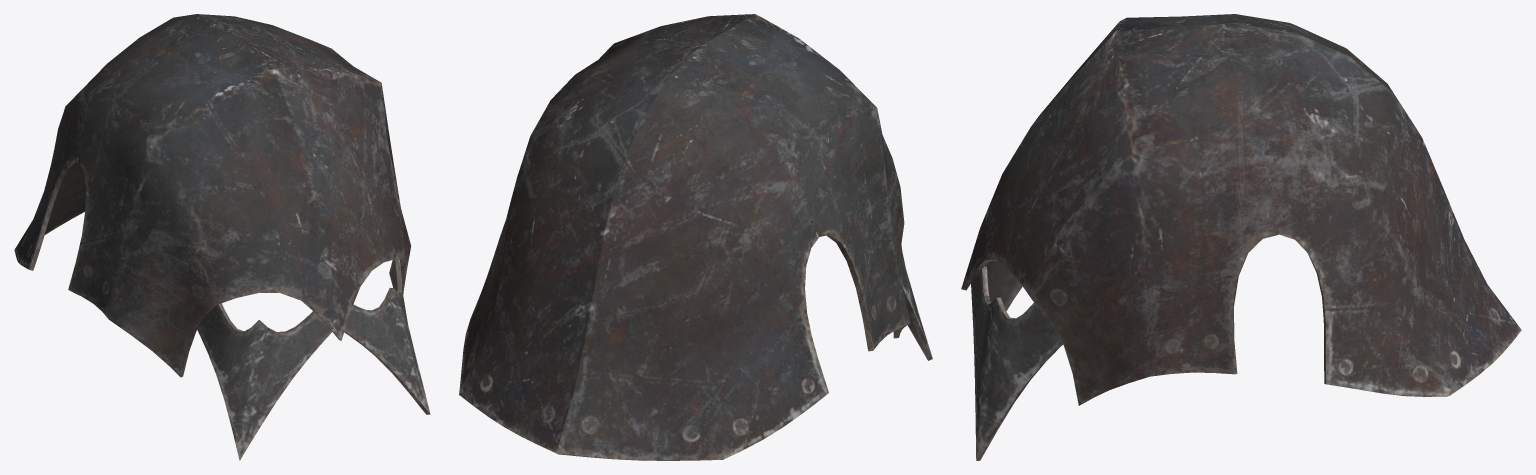
Rendered from sk_dg_uruk_helmet_med_c.fbx.
The picture shows the model from 3 angles, left to right: view 1: azimuth 30°, elevation 25°; view 2: azimuth 150°, elevation 25°; view 3: azimuth 270°, elevation 25°; orthographic projection. The views are drawn at different scales.
Parts seen in each view (by area): view 1: sk_dg_uruk_helmet_med_c; view 2: sk_dg_uruk_helmet_med_c; view 3: sk_dg_uruk_helmet_med_c.
Boxes of the visible parts, x1=… form: sk_dg_uruk_helmet_med_c: x1=14, y1=14, x2=430, y2=460; sk_dg_uruk_helmet_med_c: x1=459, y1=14, x2=932, y2=460; sk_dg_uruk_helmet_med_c: x1=961, y1=14, x2=1521, y2=460.
Bounding box in the file's own units: 0.2306 × 0.3111 × 0.2353.
1 material, 1 textured.
